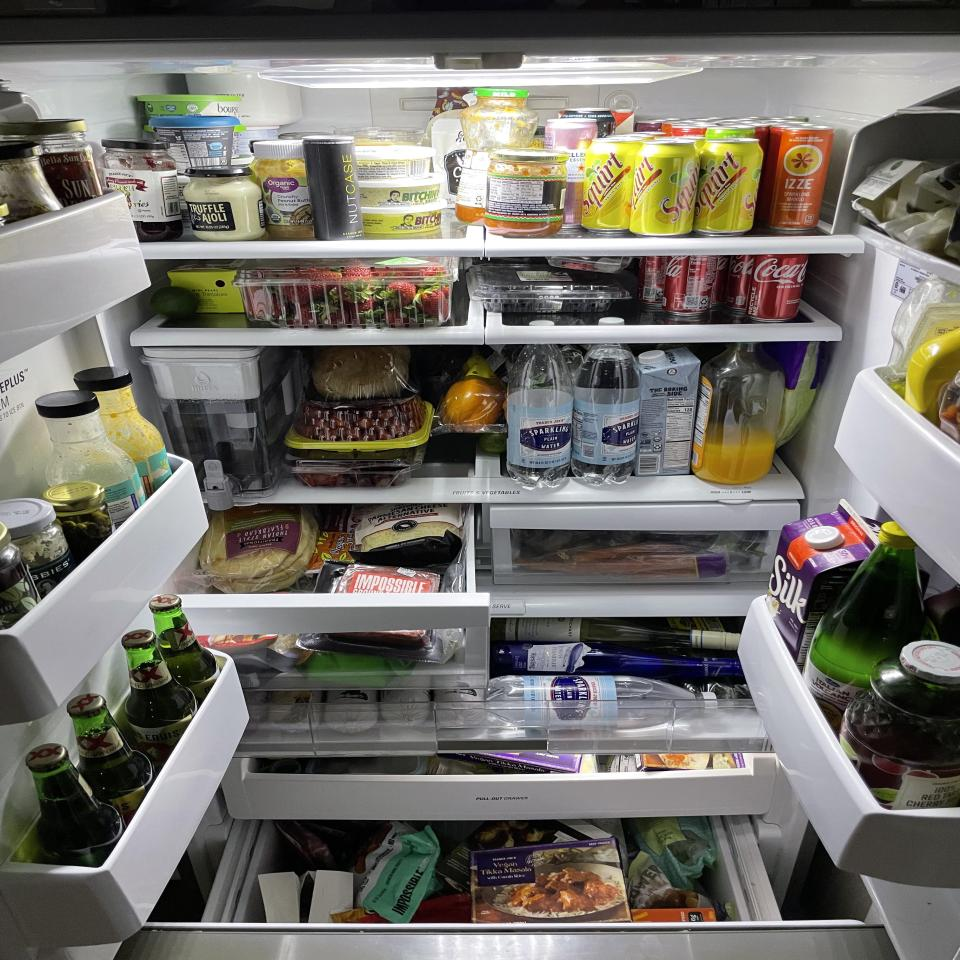bell pepper: (446, 380, 499, 430)
lime: (149, 286, 200, 320)
strawberries: (242, 260, 457, 328)
